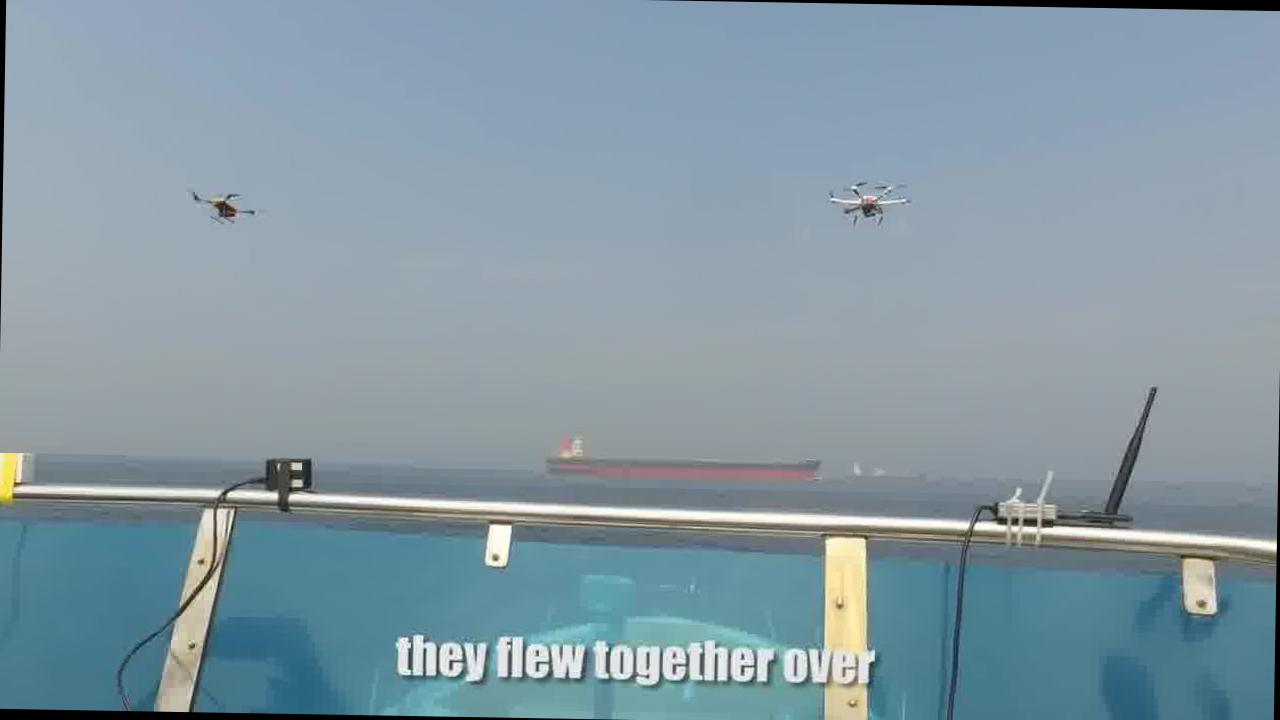drone: (828, 174, 908, 226), (182, 185, 256, 225)
